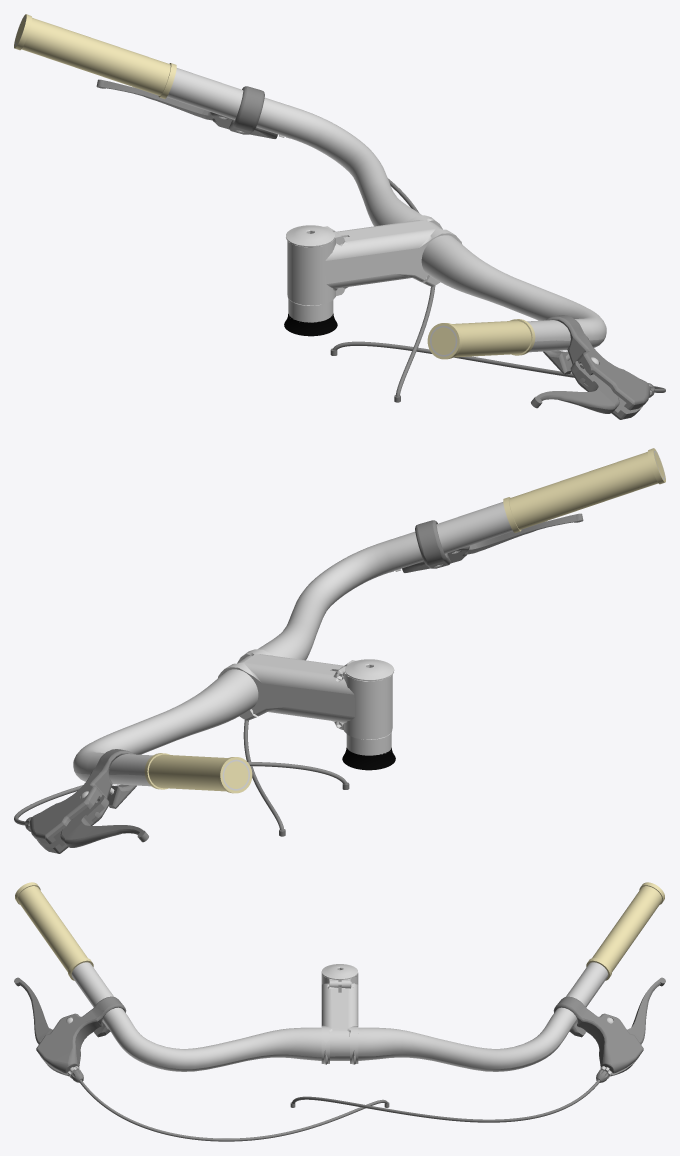
The model's file is Handle6_Cruiser_NoShifter.glb.
The picture shows the model from 3 angles, top to bottom: view 1: azimuth 30°, elevation 25°; view 2: azimuth 150°, elevation 25°; view 3: azimuth 270°, elevation 25°; orthographic projection. The views are drawn at different scales.
Parts seen in each view (by area): view 1: no_transformations (×6); view 2: no_transformations (×6); view 3: no_transformations (×5).
Boxes of the visible parts, box(x1,y1,x2,y2) form: no_transformations (×6): box(14, 14, 665, 419); no_transformations (×6): box(14, 448, 665, 853); no_transformations (×5): box(14, 882, 665, 1141).
Bounding box in the file's own units: 246 × 188 × 625.
